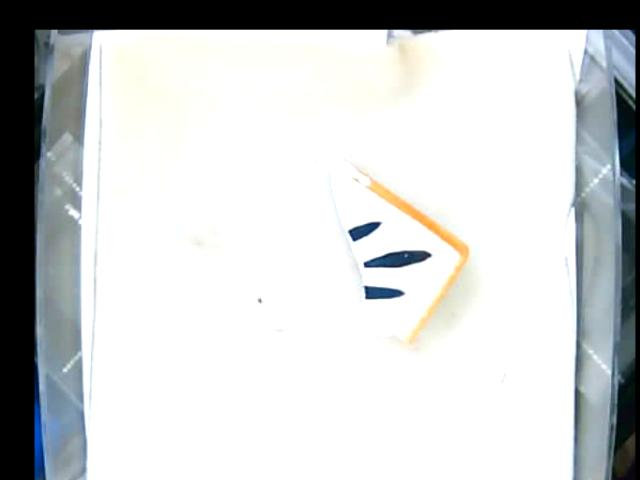China: (323, 150, 468, 338)
